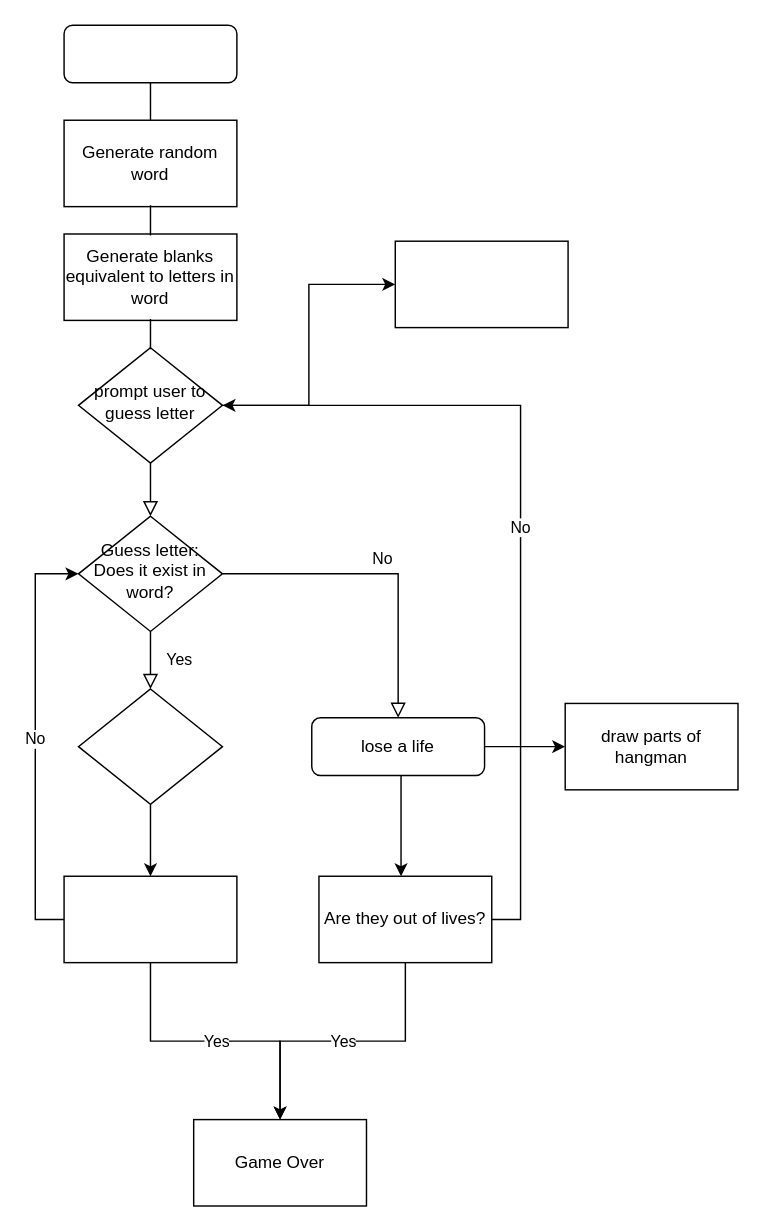
Image size: 763x1231. Some labels were removed from this diagram. Each missing label, with the centre of its shape:
are all blanks filled?: point 150,919
fill in letter: point 149,746
mark letter off list of possible choices: point 481,284
Start: point 150,53
